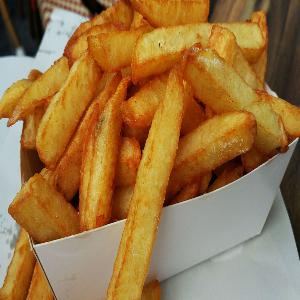fries: (13, 13, 300, 266)
